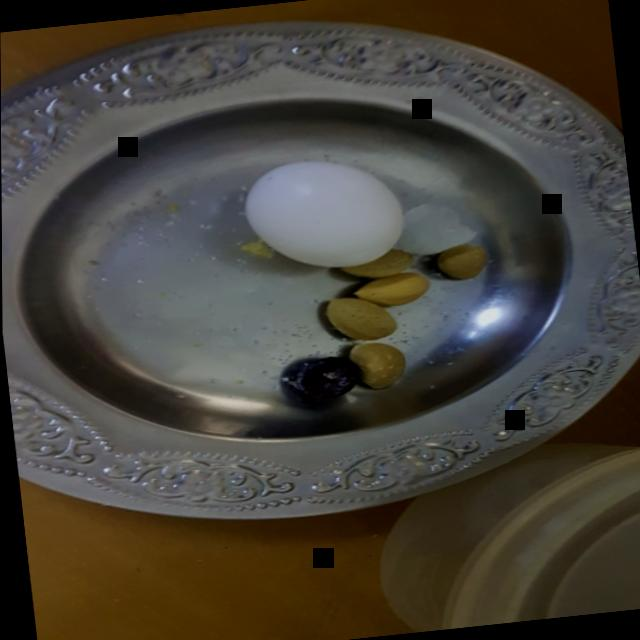eggs: (226, 144, 411, 278)
